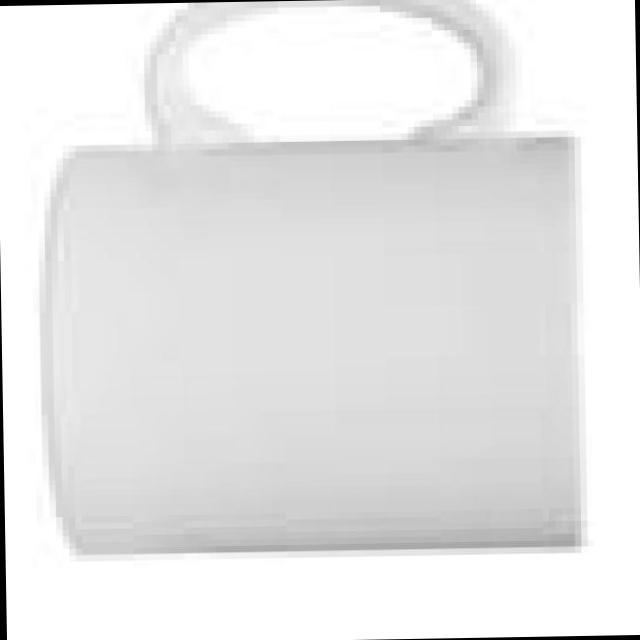Coffee Mug: (39, 0, 587, 559)
